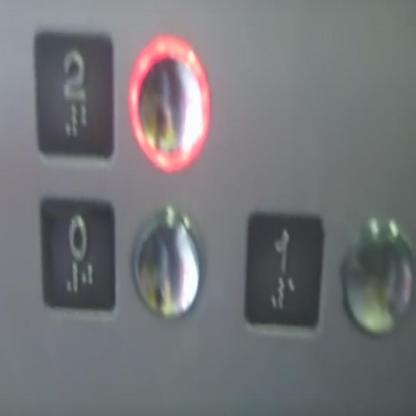0: (35, 193, 121, 320)
1: (242, 206, 326, 333)
2: (30, 25, 117, 166)
empty: (125, 27, 214, 180), (336, 210, 416, 341), (128, 199, 208, 326)
